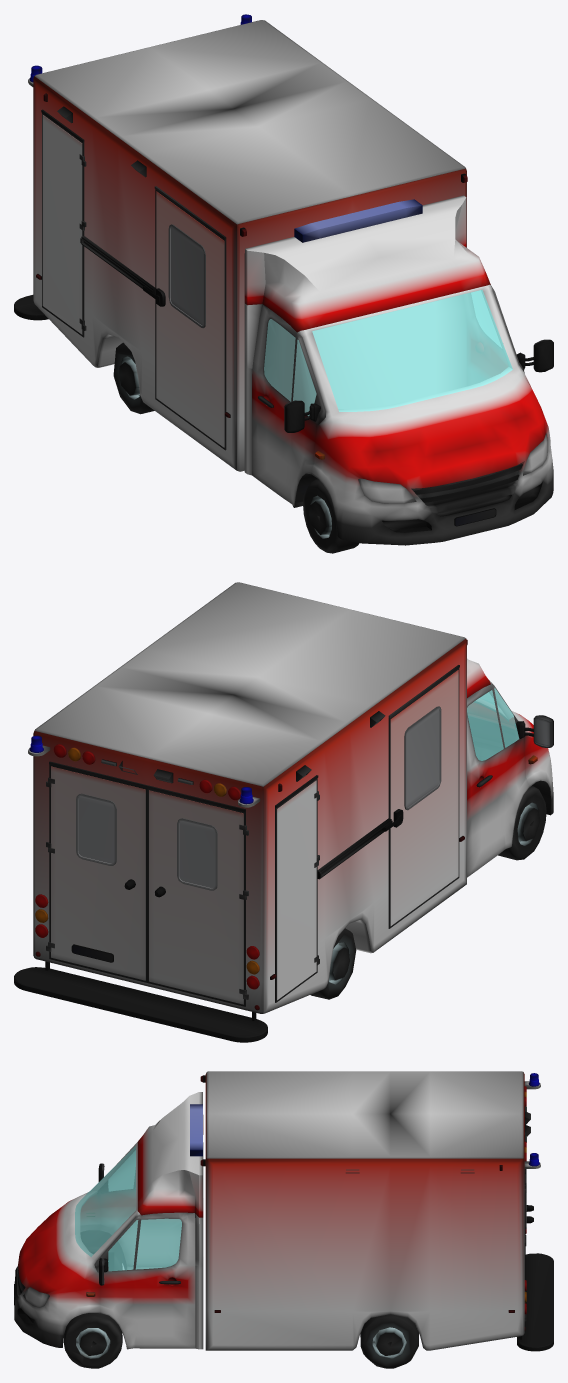
3 views of the same model, one above another, from view 1: azimuth 30°, elevation 25°; view 2: azimuth 150°, elevation 25°; view 3: azimuth 270°, elevation 25° (orthographic). The views are drawn at different scales.
Parts seen in each view (by area): view 1: body, glass, wheel_FL, wheel_RL; view 2: body, glass, wheel_FL, wheel_RL; view 3: body, glass, wheel_FR, wheel_RR.
Boxes of the visible parts, left/top/right/bottom form: body: left=14, top=14, right=553, bottom=545; glass: left=264, top=289, right=512, bottom=416; wheel_FL: left=303, top=479, right=359, bottom=553; wheel_RL: left=113, top=342, right=154, bottom=414; body: left=14, top=582, right=553, bottom=1042; glass: left=467, top=688, right=519, bottom=760; wheel_FL: left=498, top=786, right=546, bottom=860; wheel_RL: left=310, top=928, right=356, bottom=999; body: left=14, top=1071, right=553, bottom=1351; glass: left=75, top=1146, right=181, bottom=1271; wheel_FR: left=63, top=1313, right=122, bottom=1368; wheel_RR: left=360, top=1314, right=418, bottom=1368.
Bounding box in the file's own units: 2.95 × 2.92 × 6.6.
